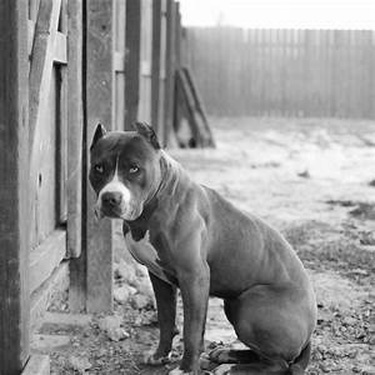dog: (74, 112, 318, 372)
